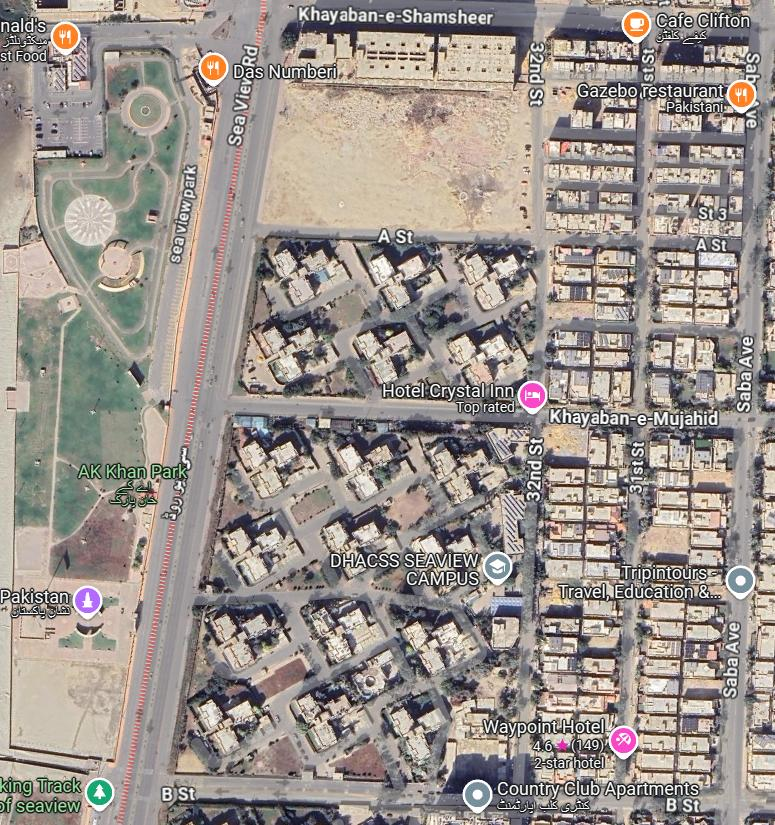Buildings: (169, 607, 522, 792), (193, 418, 529, 596), (255, 37, 533, 235), (237, 234, 533, 407), (634, 431, 728, 783), (534, 425, 628, 774), (652, 44, 750, 240), (540, 250, 638, 411), (649, 252, 741, 411), (545, 33, 636, 131), (655, 42, 745, 136), (546, 139, 638, 229), (550, 37, 638, 129)
